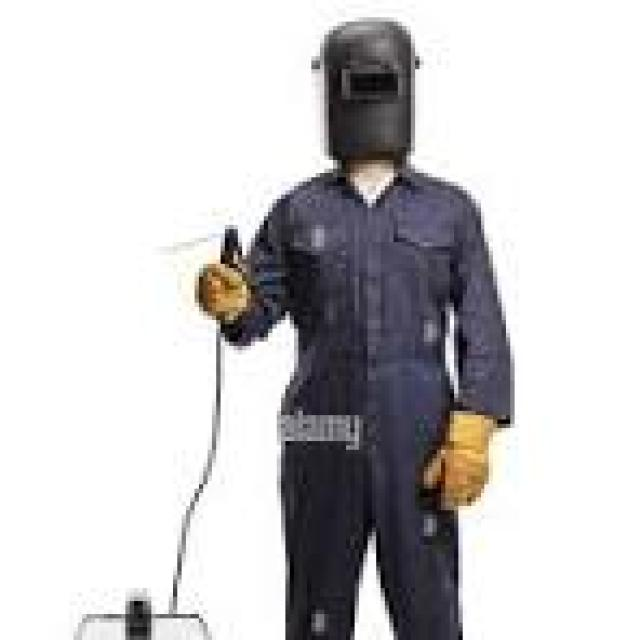gloves: (429, 422, 511, 507), (206, 270, 238, 318)
